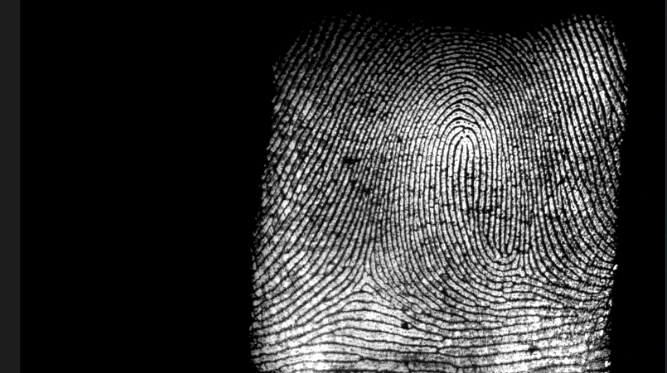deltas: (495, 236, 557, 298), (330, 248, 392, 307)
nucleo: (432, 114, 497, 189)
